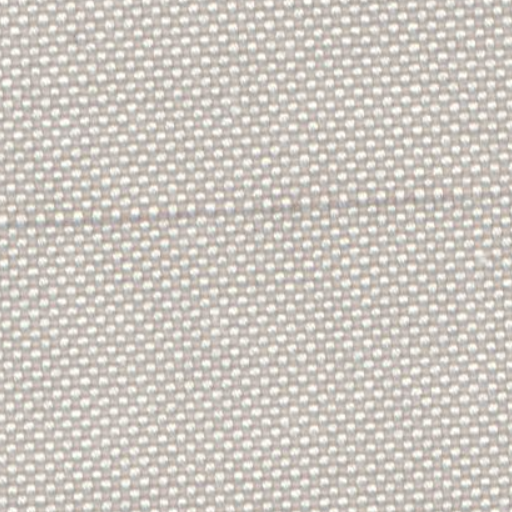TuoSha: (18, 175, 496, 243)
